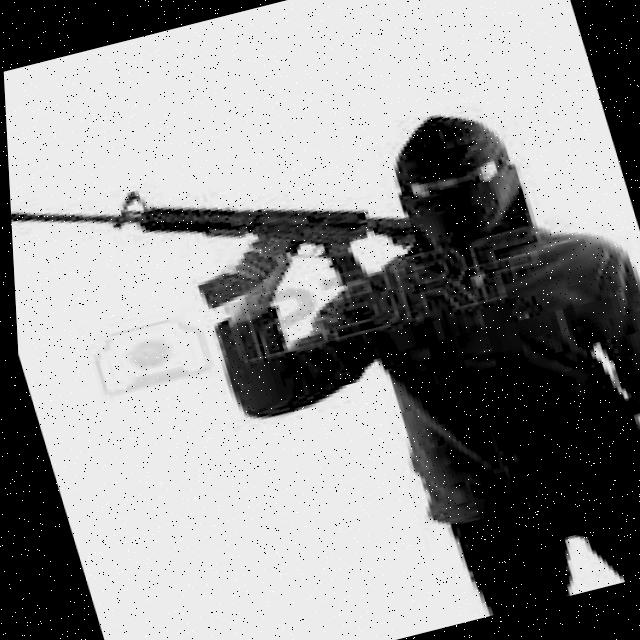firearm: (5, 113, 427, 361)
